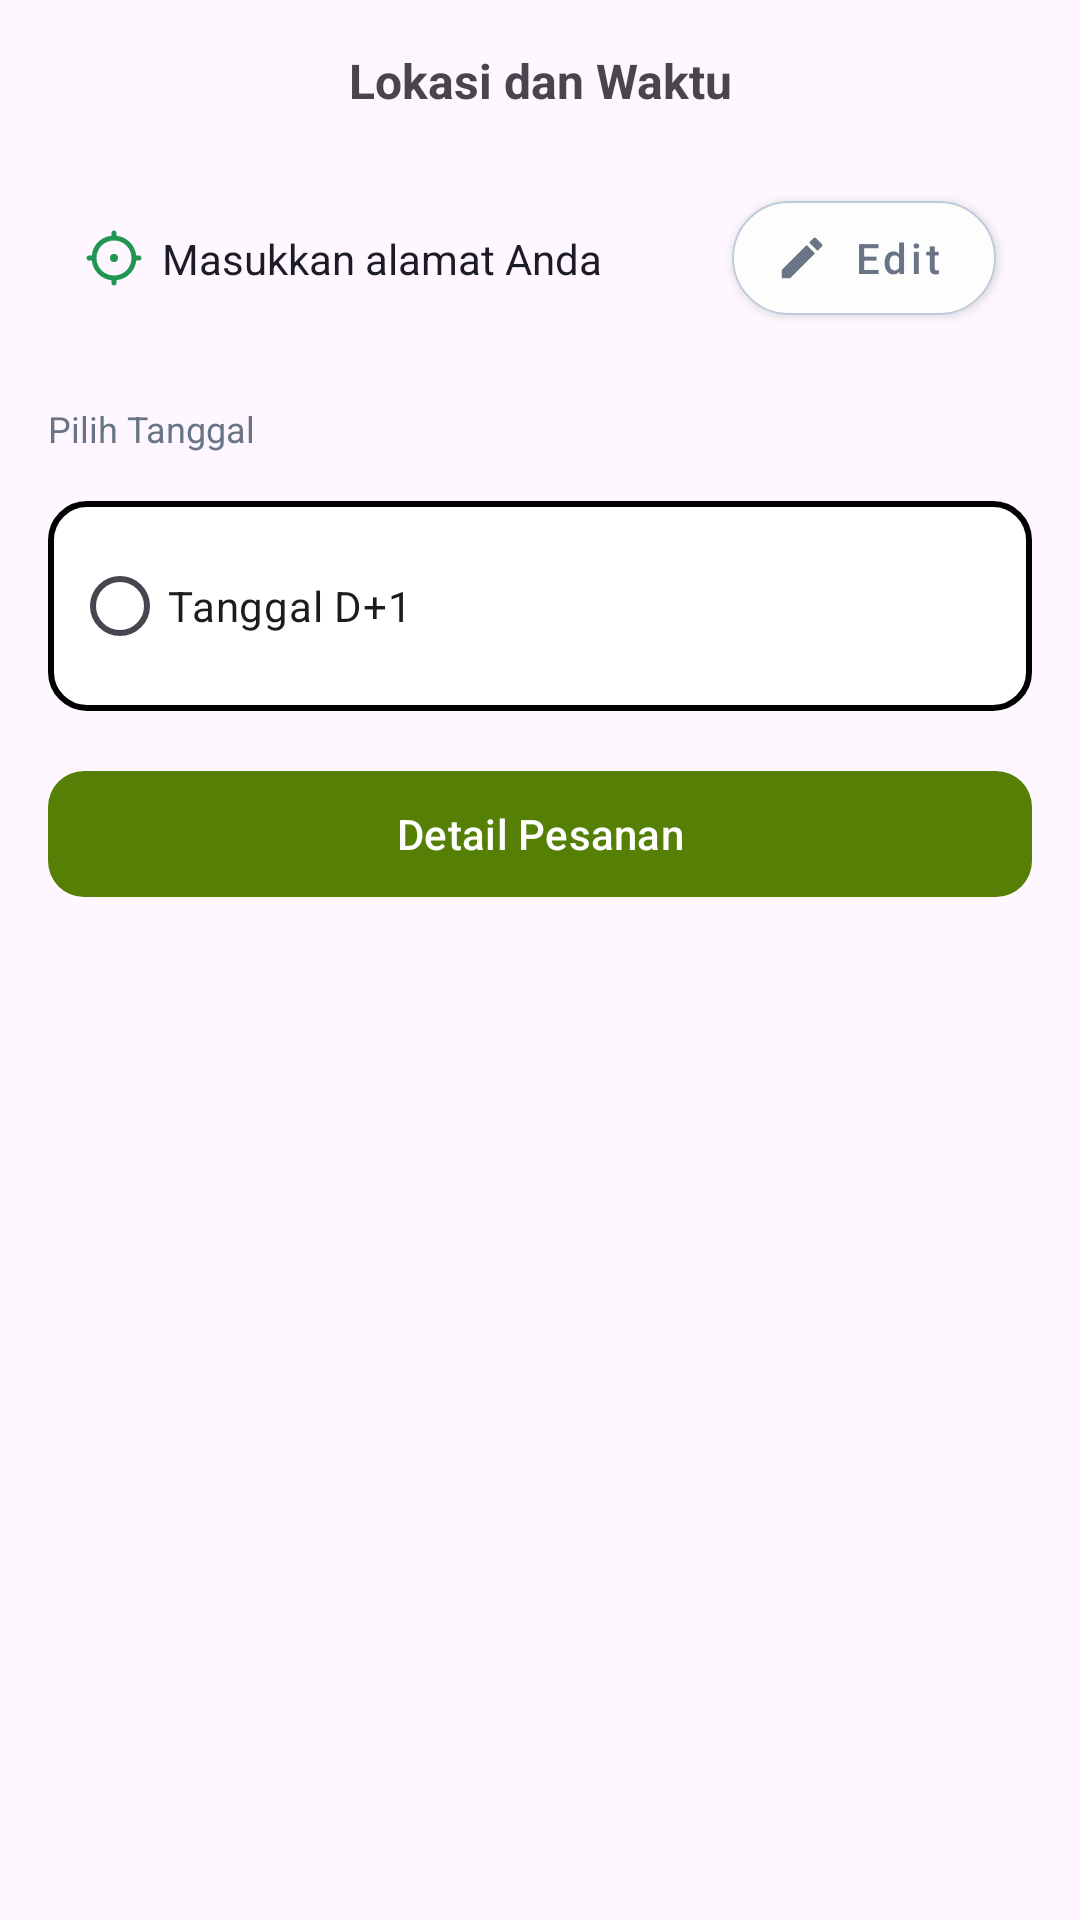

Where icons sit on this 1080 × 1920 app screen, as (x1, y1, x2, y2):
crosshair: (86, 230, 142, 286)
